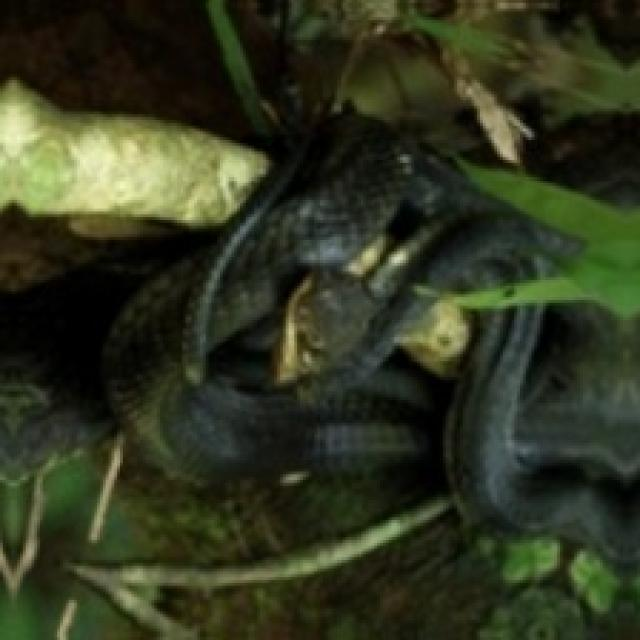king cobra: (103, 123, 637, 574), (397, 283, 514, 414), (74, 566, 266, 637)
